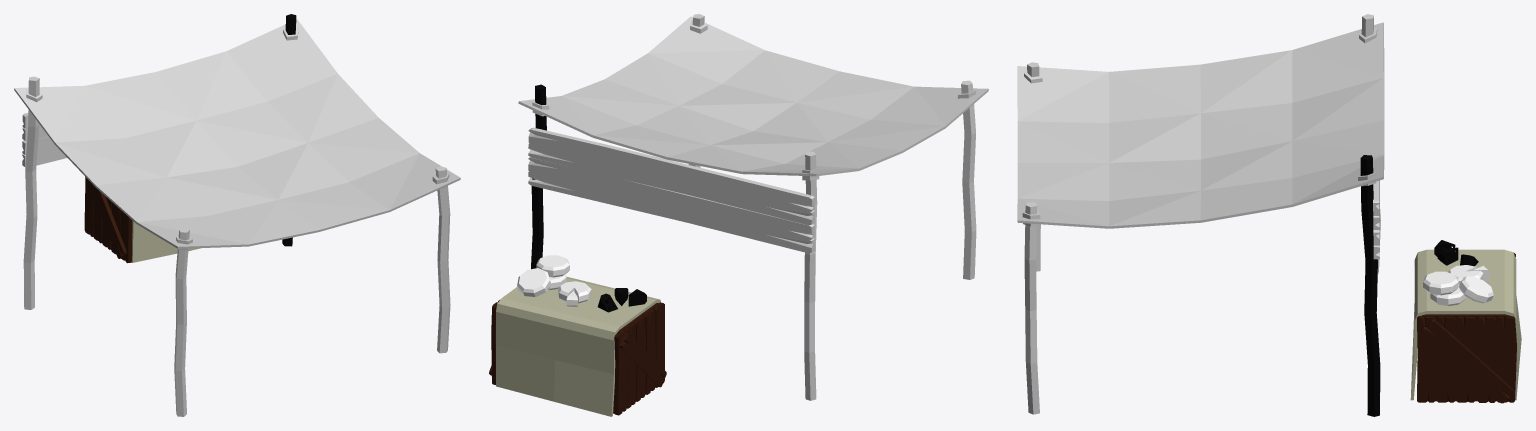
Rendered from CheeseStandUpdated.fbx.
3 renders of one model, left to right at view 1: azimuth 30°, elevation 25°; view 2: azimuth 150°, elevation 25°; view 3: azimuth 270°, elevation 25°, orthographic. The views are drawn at different scales.
Visible parts, largest first — view 1: CheeseStand, Box002; view 2: CheeseStand, Box002; view 3: CheeseStand, Box002.
Boxes of the visible parts, bbox=[...] form: CheeseStand: bbox=[14, 19, 460, 263]; Box002: bbox=[23, 14, 450, 416]; CheeseStand: bbox=[489, 16, 988, 416]; Box002: bbox=[531, 14, 976, 400]; CheeseStand: bbox=[1017, 22, 1521, 403]; Box002: bbox=[1024, 14, 1380, 416].
Size of the model in its own units: 2063 by 1603 by 2845.
